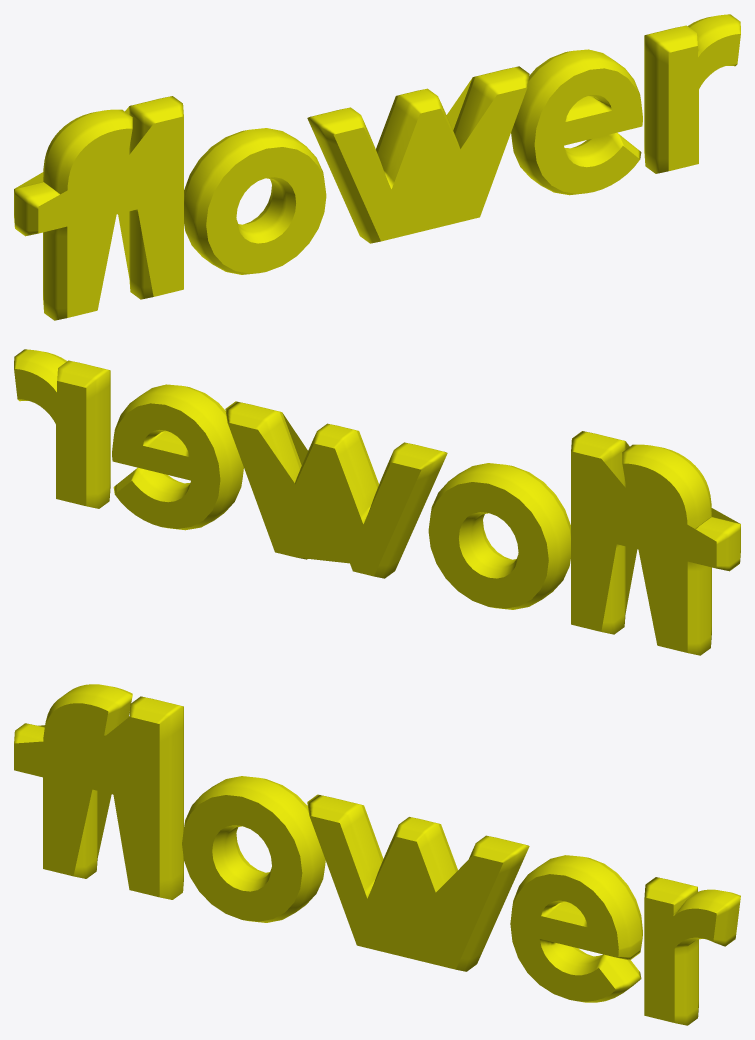
The model's file is flower.fbx.
The picture shows the model from 3 angles, top to bottom: view 1: azimuth 30°, elevation 25°; view 2: azimuth 150°, elevation 25°; view 3: azimuth 330°, elevation 25°; orthographic projection.
Parts seen in each view (by area): view 1: bevelPolygon1, bevelPolygon3, bevelPolygon2, bevelPolygon4, bevelPolygon5; view 2: bevelPolygon1, bevelPolygon3, bevelPolygon2, bevelPolygon4, bevelPolygon5; view 3: bevelPolygon1, bevelPolygon3, bevelPolygon4, bevelPolygon2, bevelPolygon5.
Part boxes in pixels (x1,y1,x2,y2): bevelPolygon1: (14,96,183,320); bevelPolygon3: (307,66,529,243); bevelPolygon2: (184,128,326,274); bevelPolygon4: (511,49,642,195); bevelPolygon5: (644,14,740,173); bevelPolygon1: (571,431,740,655); bevelPolygon3: (225,401,447,578); bevelPolygon2: (428,463,570,609); bevelPolygon4: (112,384,243,530); bevelPolygon5: (14,349,110,508); bevelPolygon1: (14,684,183,899); bevelPolygon3: (307,794,529,971); bevelPolygon4: (510,855,642,1002); bevelPolygon2: (182,776,325,922); bevelPolygon5: (644,877,740,1025).
Size of the model in its own units: 11.95 by 3.04 by 0.7.
